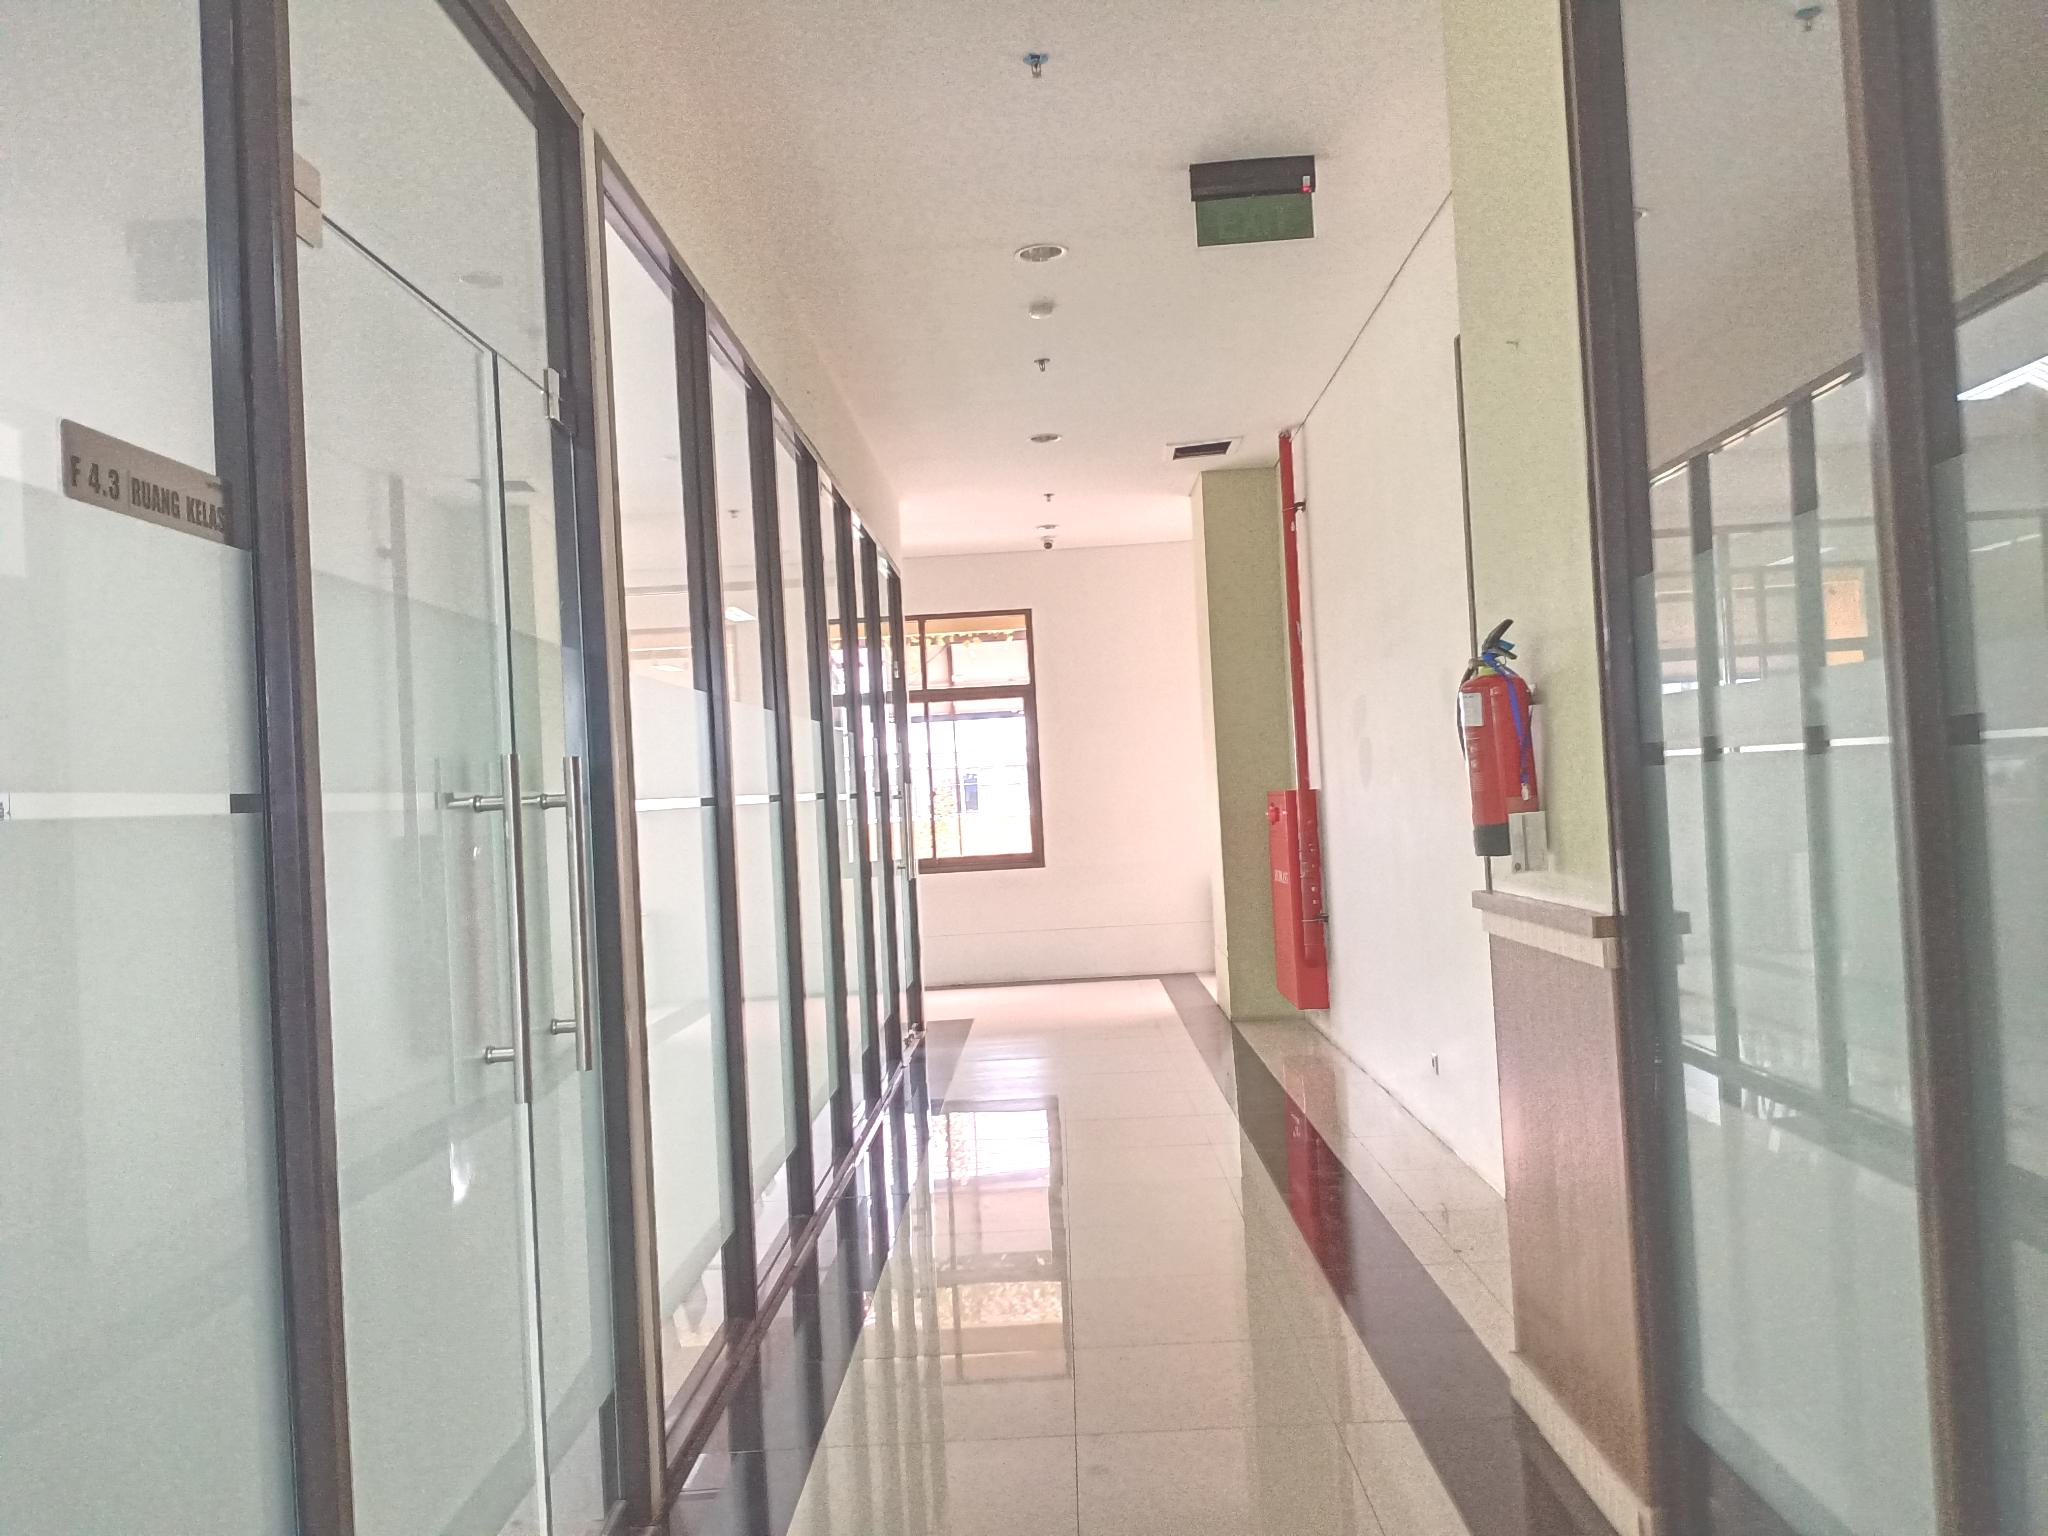plate: (60, 416, 235, 549)
